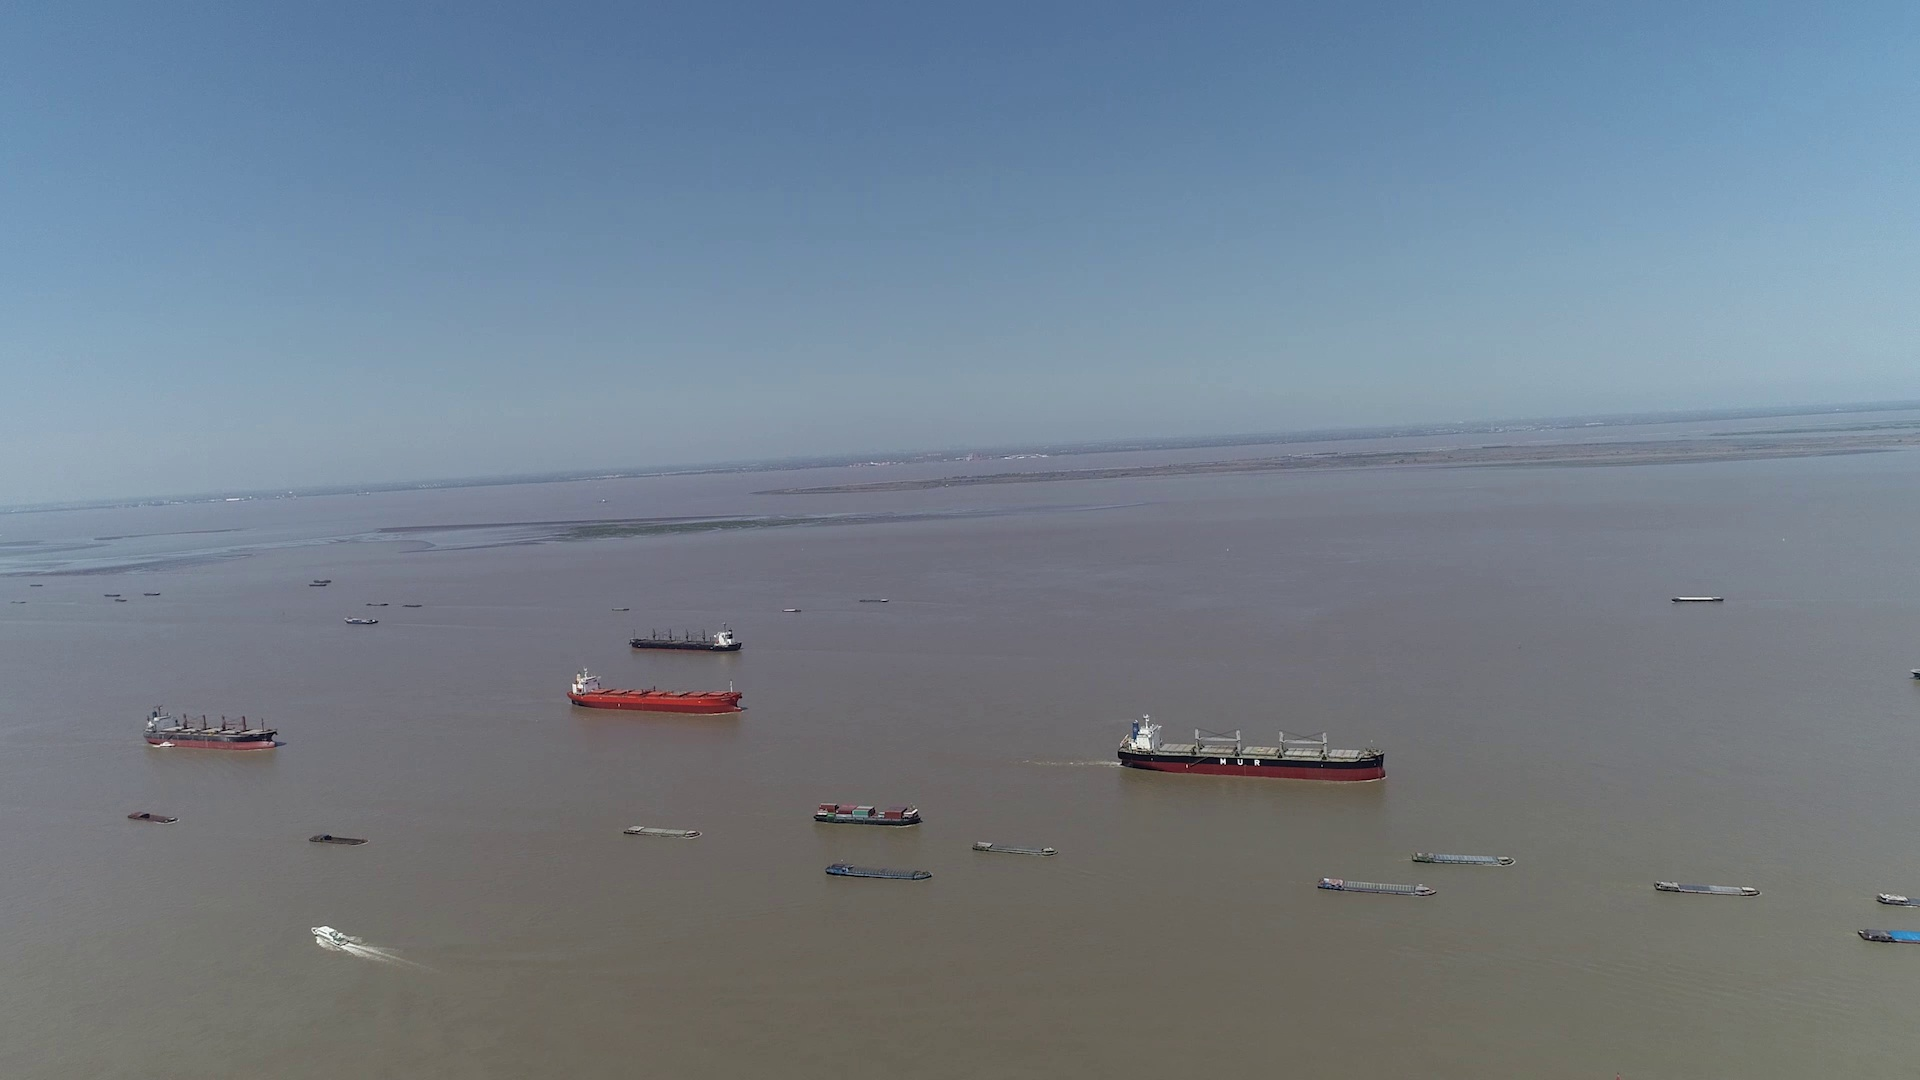ship: (1117, 713, 1383, 783), (568, 667, 742, 713), (144, 704, 278, 752), (632, 625, 742, 651), (812, 802, 922, 825), (1315, 876, 1437, 897), (823, 861, 930, 880), (1654, 880, 1759, 898), (1414, 849, 1514, 866), (971, 837, 1056, 855), (314, 924, 360, 949), (621, 823, 700, 837), (1855, 931, 1919, 947), (309, 833, 371, 847), (1875, 890, 1916, 909), (127, 810, 178, 823), (1672, 595, 1720, 603), (345, 616, 378, 624)
